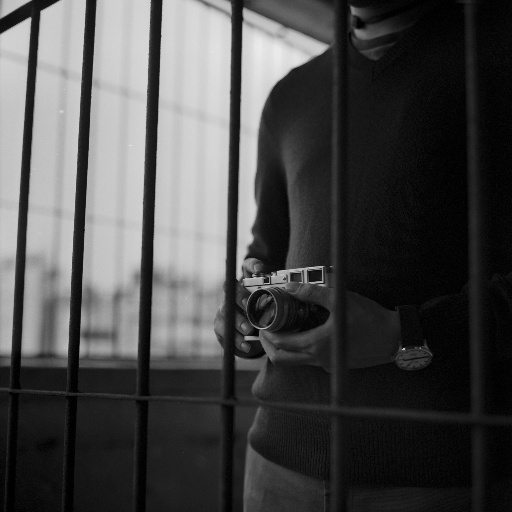hand: (258, 280, 398, 374), (210, 257, 268, 359)
